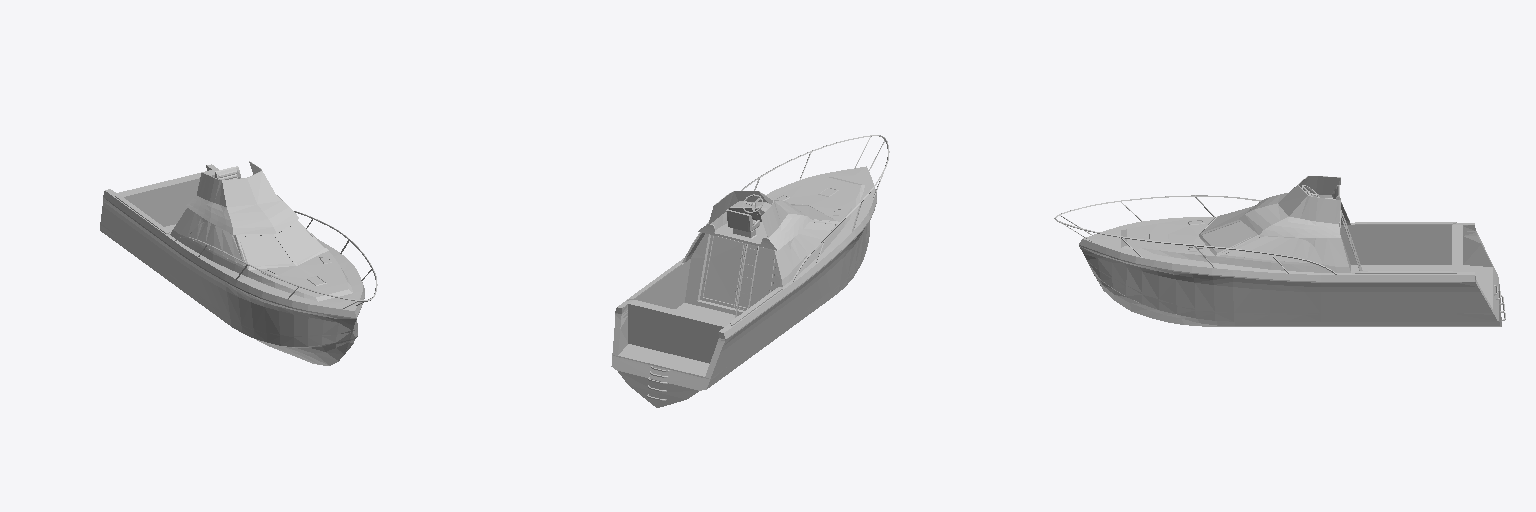
Rendered from Yacht_NoCanopy.obj.
3 renders of one model, left to right at view 1: azimuth 30°, elevation 25°; view 2: azimuth 150°, elevation 25°; view 3: azimuth 270°, elevation 25°, orthographic.
Visible parts, largest first — view 1: Yacht_NoCanopy_LP; view 2: Yacht_NoCanopy_LP; view 3: Yacht_NoCanopy_LP.
Part boxes in pixels (left/top/right/bottom): Yacht_NoCanopy_LP: left=100, top=161, right=377, bottom=365; Yacht_NoCanopy_LP: left=611, top=135, right=889, bottom=407; Yacht_NoCanopy_LP: left=1054, top=176, right=1505, bottom=326.
Size of the model in its own units: 2.28 by 2.81 by 8.05.